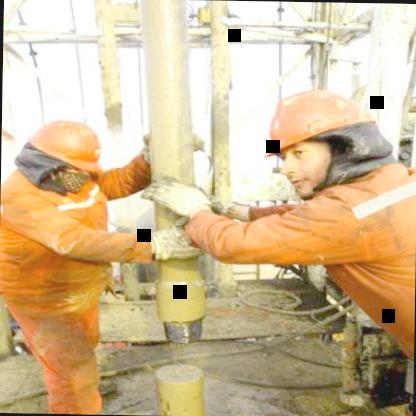helmet: (247, 70, 394, 204), (9, 106, 114, 199)
